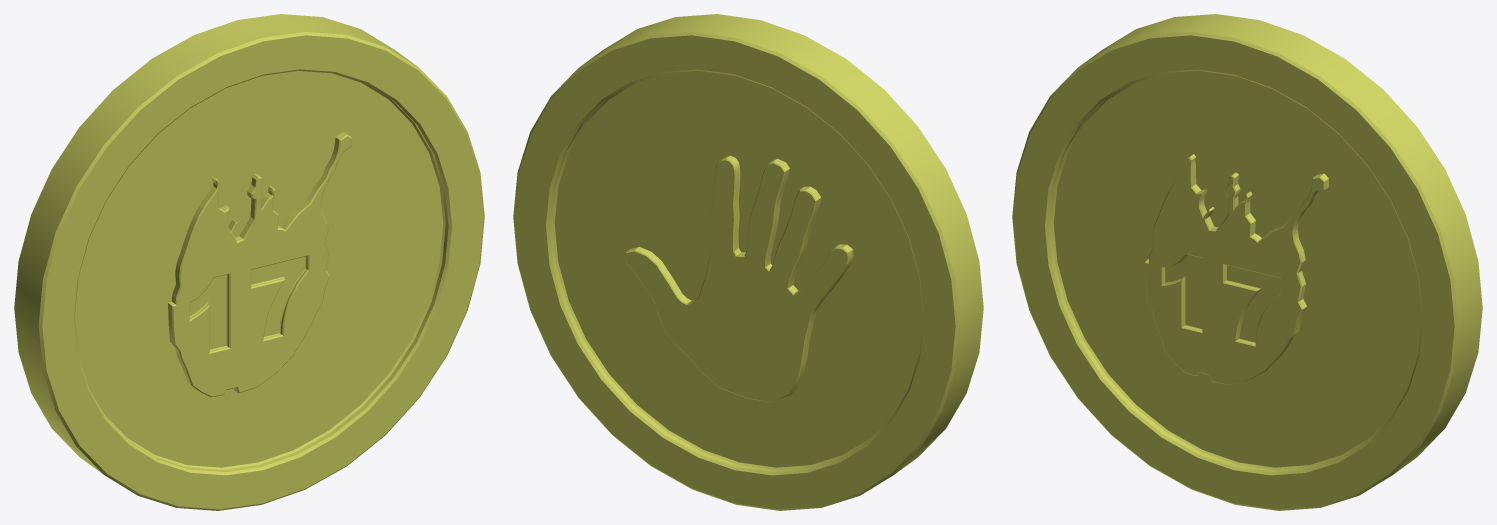
File: coin.fbx
The picture shows the model from 3 angles, left to right: view 1: azimuth 30°, elevation 25°; view 2: azimuth 150°, elevation 25°; view 3: azimuth 330°, elevation 25°; orthographic projection.
Parts seen in each view (by area): view 1: coin; view 2: coin; view 3: coin.
Boxes of the visible parts, bbox=[...] form: coin: bbox=[14, 14, 484, 510]; coin: bbox=[513, 14, 983, 510]; coin: bbox=[1012, 14, 1482, 510].
Bounding box in the file's own units: 2 × 2 × 0.2104.
